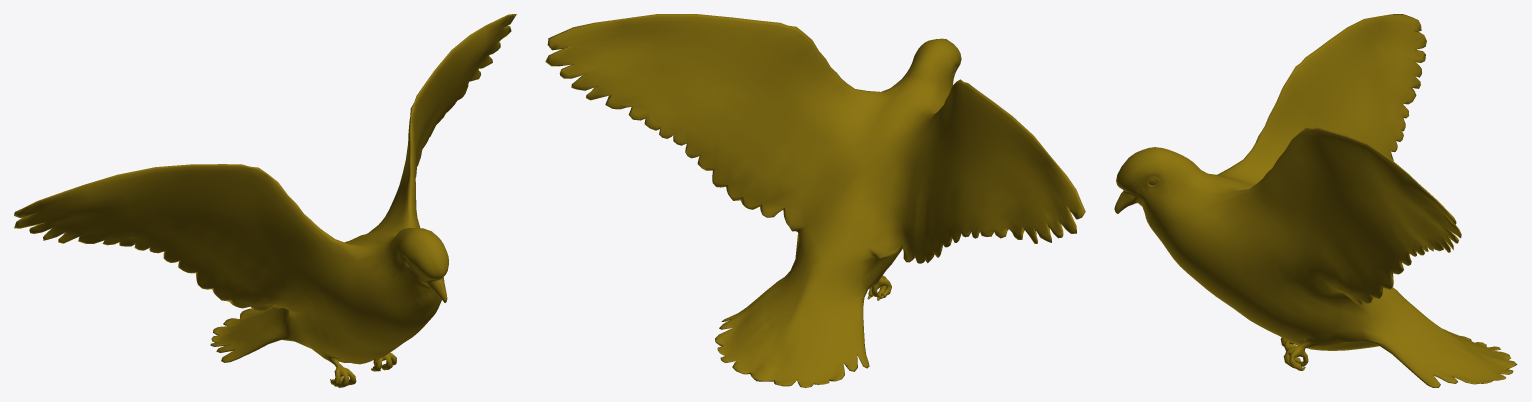
3 views of the same model, side by side, from view 1: azimuth 30°, elevation 25°; view 2: azimuth 150°, elevation 25°; view 3: azimuth 270°, elevation 25° (orthographic). The views are drawn at different scales.
Parts seen in each view (by area): view 1: 013_Vray; view 2: 013_Vray; view 3: 013_Vray.
Part boxes in pixels (left/top/right/bottom): 013_Vray: left=14, top=14, right=516, bottom=387; 013_Vray: left=545, top=14, right=1085, bottom=387; 013_Vray: left=1114, top=14, right=1517, bottom=387.
Bounding box in the file's own units: 555 × 292 × 365.
